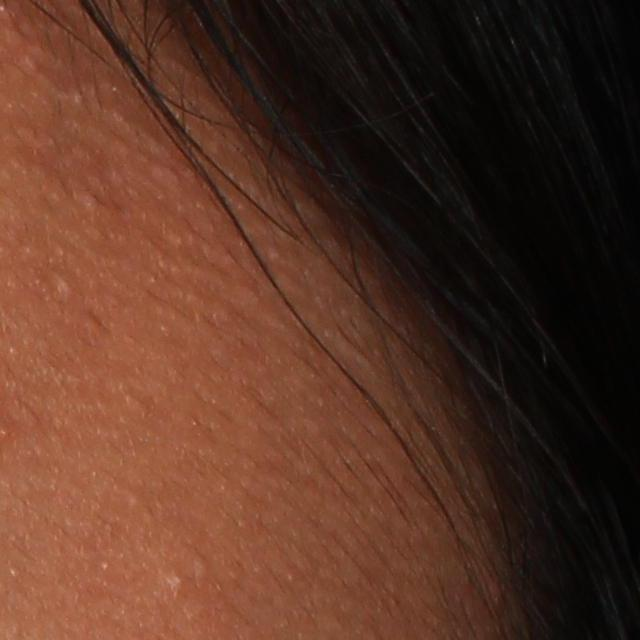comedo: (192, 556, 215, 583), (163, 568, 186, 591), (53, 271, 74, 294)
